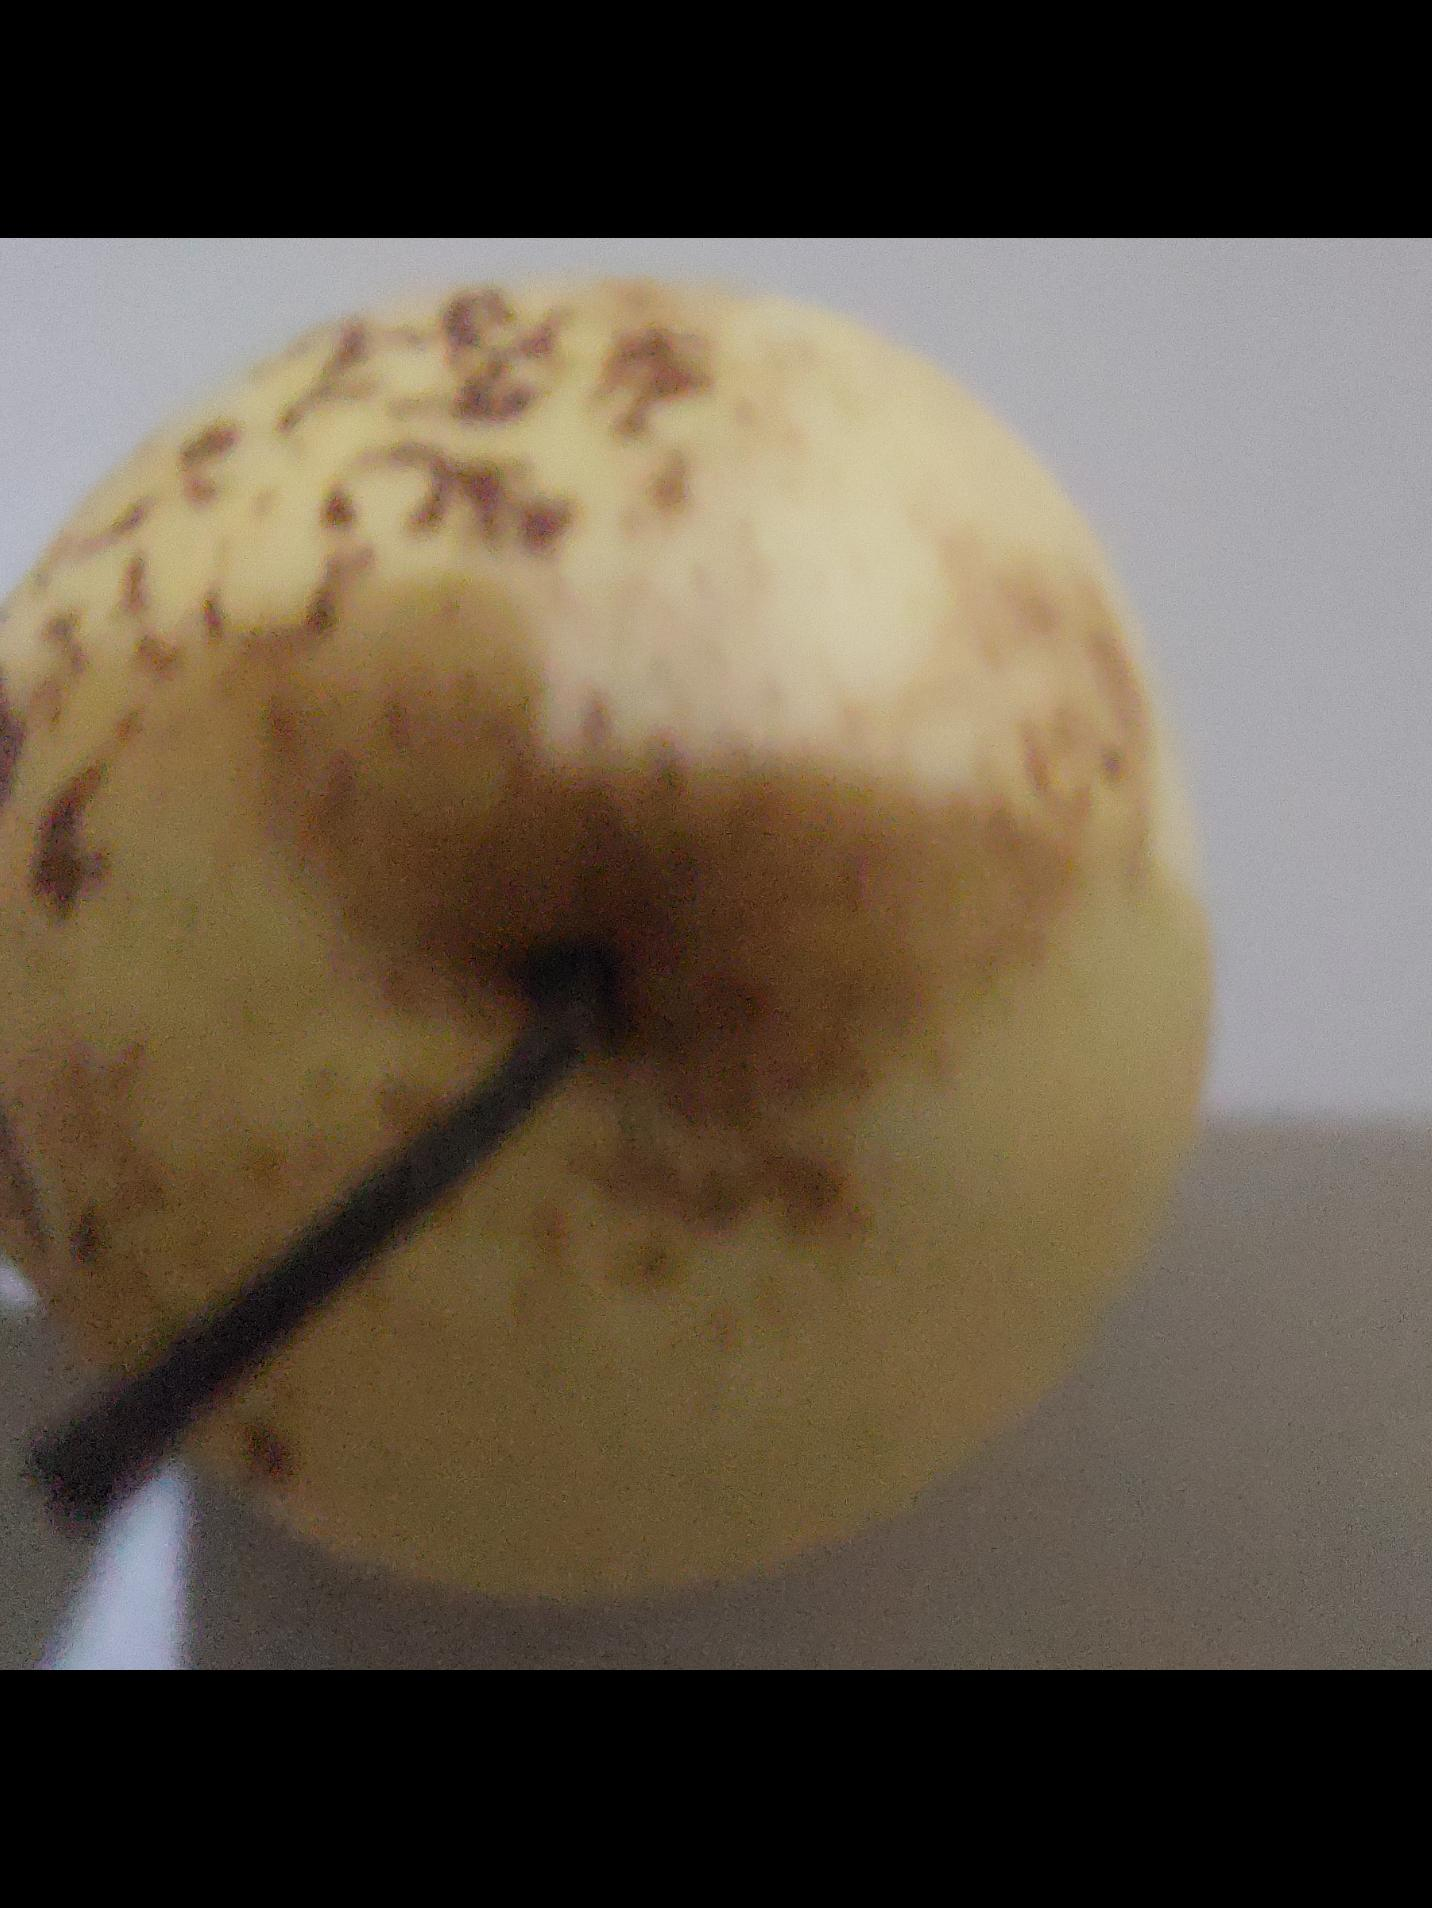Bad Pear: (0, 322, 1194, 1600)
